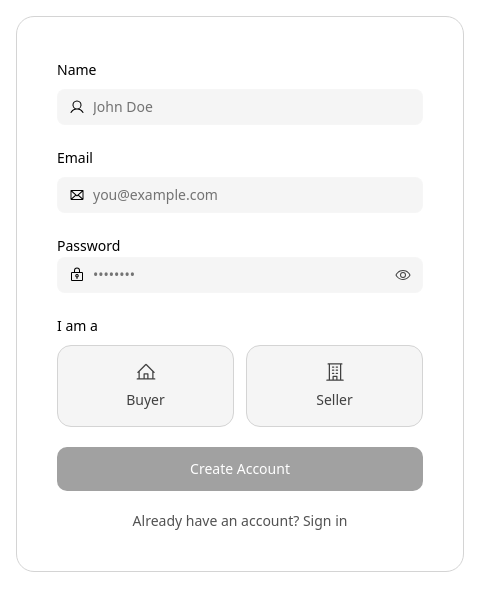
Test: RegisterForm › should enable submit button when role is selected
Expected: the button "Create Account" is disabled, top-left (57, 447), bottom-right (423, 491)
Click the button "Buyer" at {"x": 146, "y": 386}, box top-left (57, 345), bottom-right (234, 427)
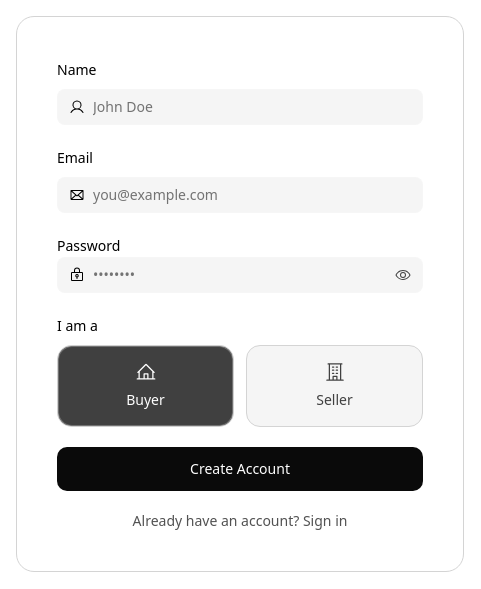
Now the button "Create Account" is enabled, box top-left (57, 447), bottom-right (423, 491)
